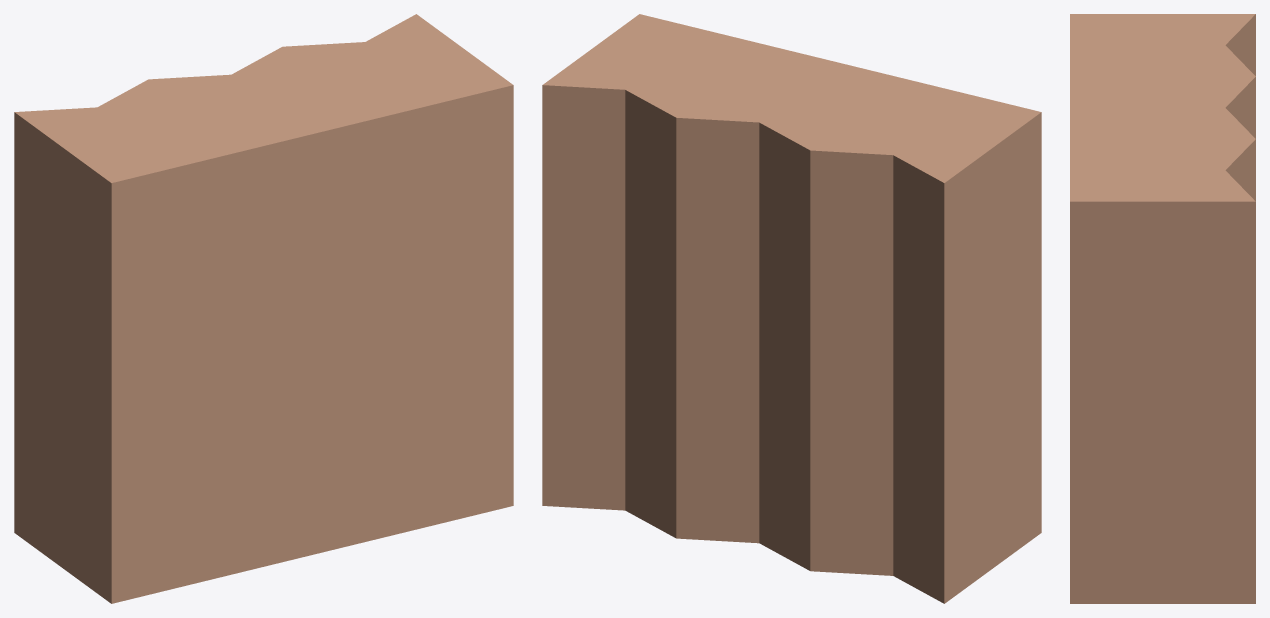
File: cliff_large_rock.glb
The picture shows the model from 3 angles, left to right: view 1: azimuth 30°, elevation 25°; view 2: azimuth 150°, elevation 25°; view 3: azimuth 270°, elevation 25°; orthographic projection. The views are drawn at different scales.
Visible parts, largest first — view 1: cliff_large_rock; view 2: cliff_large_rock; view 3: cliff_large_rock.
Boxes of the visible parts, <box> form: cliff_large_rock: <box>14,14,513,603</box>; cliff_large_rock: <box>542,14,1041,603</box>; cliff_large_rock: <box>1070,14,1255,603</box>.
Bounding box in the file's own units: 1 × 1 × 0.4185.
